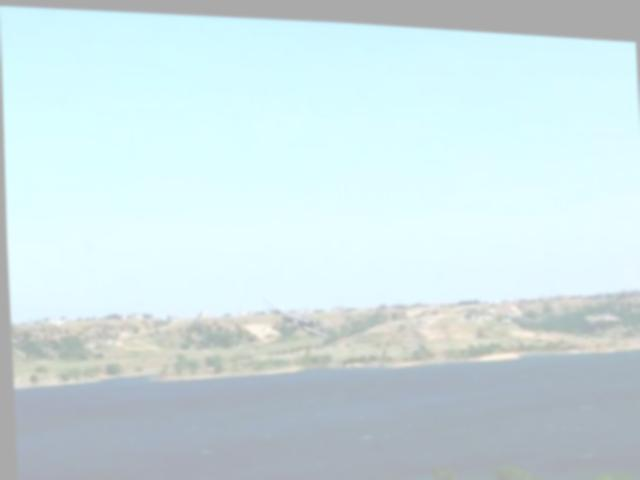iha: (262, 285, 330, 337)
